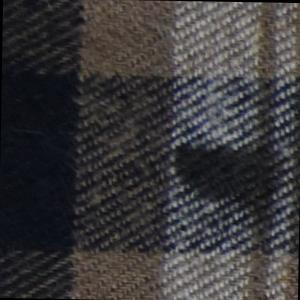Stain: (167, 137, 292, 226)
